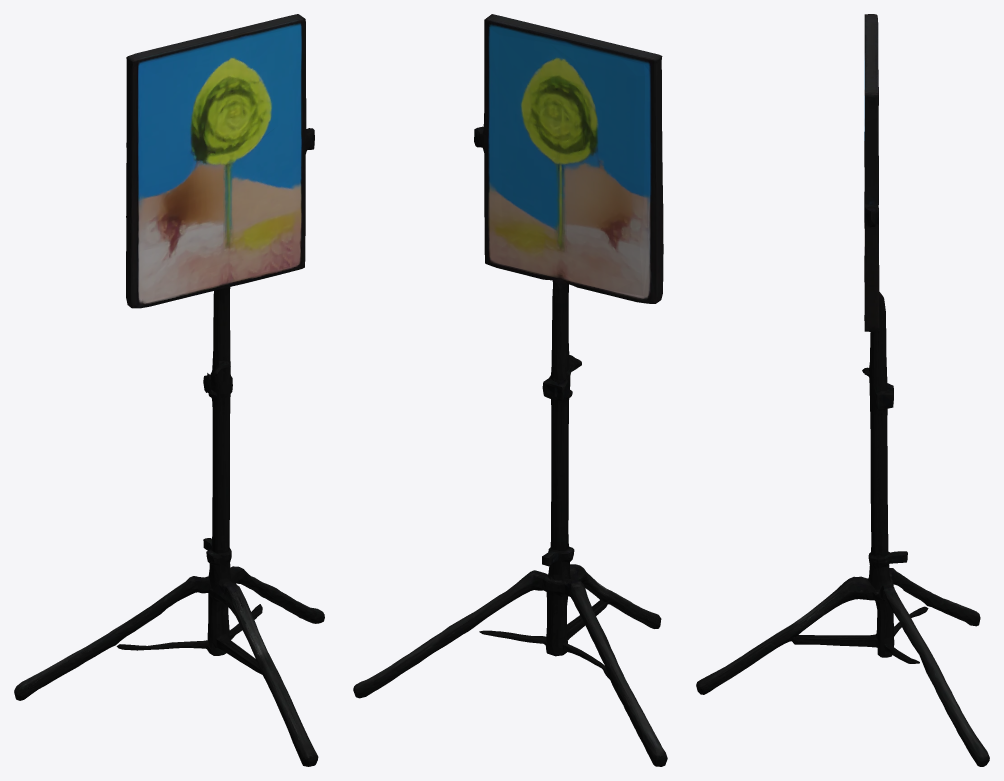
Rendered from floorTV3.glb.
3 views of the same model, side by side, from view 1: azimuth 30°, elevation 25°; view 2: azimuth 150°, elevation 25°; view 3: azimuth 270°, elevation 25° (orthographic). The views are drawn at different scales.
Parts seen in each view (by area): view 1: geometry_0; view 2: geometry_0; view 3: geometry_0.
Boxes of the visible parts, x1,y1,x2,y2 form: geometry_0: (14, 14, 324, 766); geometry_0: (353, 14, 667, 766); geometry_0: (696, 14, 989, 766).
Bounding box in the file's own units: 0.4927 × 1 × 0.4181.
Materials: 1 (1 with a texture image).
